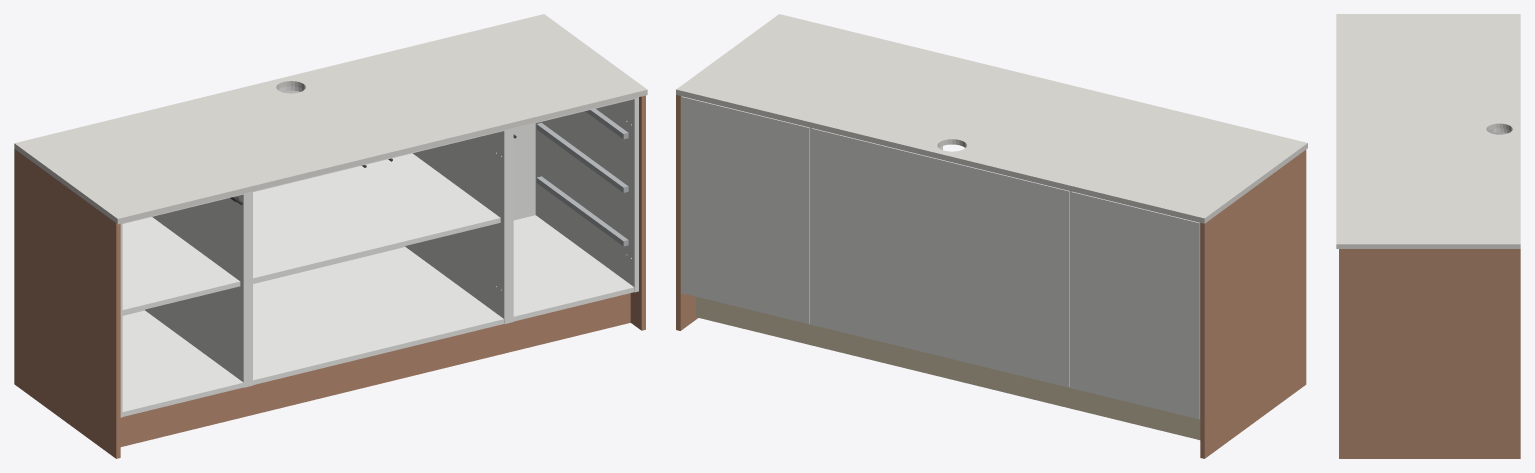
Rendered from korpus.glb.
The picture shows the model from 3 angles, left to right: view 1: azimuth 30°, elevation 25°; view 2: azimuth 150°, elevation 25°; view 3: azimuth 270°, elevation 25°; orthographic projection. The views are drawn at different scales.
Bounding box in the file's own units: 2070 × 900 × 700.
